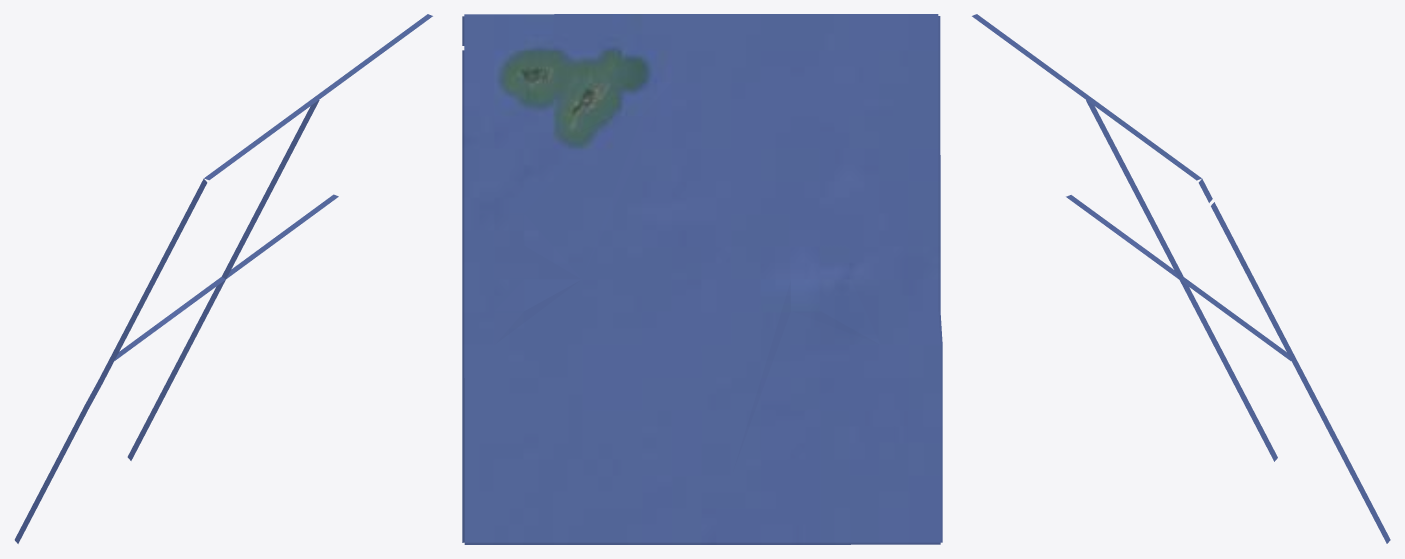
The picture shows the model from 3 angles, left to right: view 1: azimuth 30°, elevation 25°; view 2: azimuth 150°, elevation 25°; view 3: azimuth 270°, elevation 25°; orthographic projection. The views are drawn at different scales.
Bounding box in the file's own units: 39578 × 35624 × 32904.
Materials: 1 (1 with a texture image).
